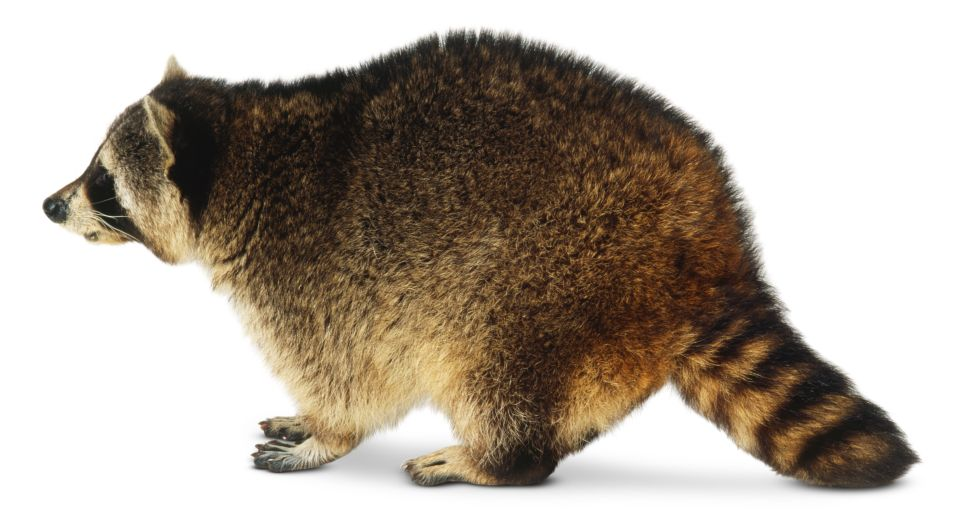raccoon: (35, 16, 940, 522)
